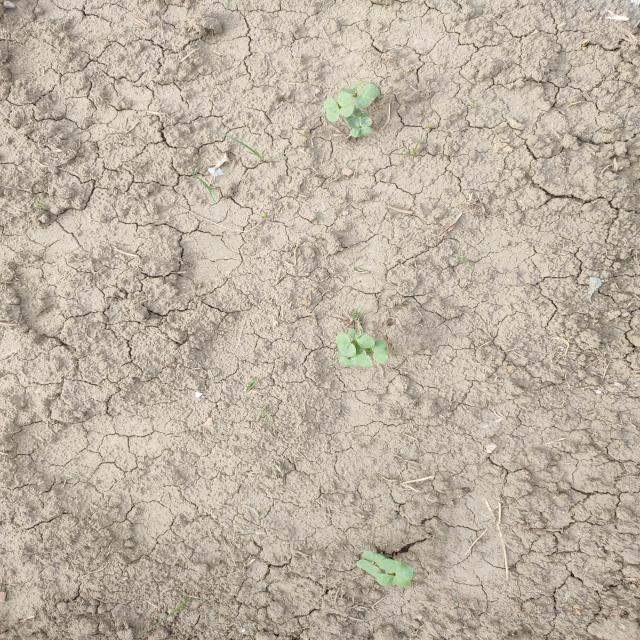seedling: (379, 559, 415, 581), (353, 85, 378, 109), (352, 341, 372, 368), (336, 332, 356, 357), (356, 560, 383, 578), (377, 574, 411, 588), (349, 330, 375, 348), (323, 98, 340, 122), (338, 92, 354, 117), (372, 340, 388, 364), (362, 551, 386, 566), (338, 351, 359, 368), (340, 81, 365, 94), (347, 116, 372, 128), (351, 127, 372, 138)
